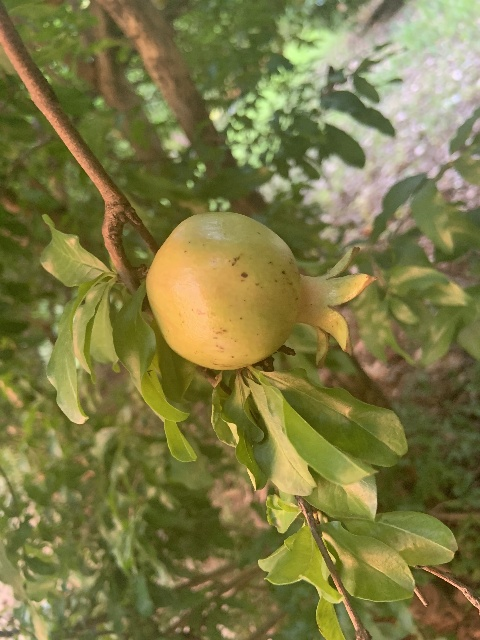mid-growth: (146, 211, 376, 372)
